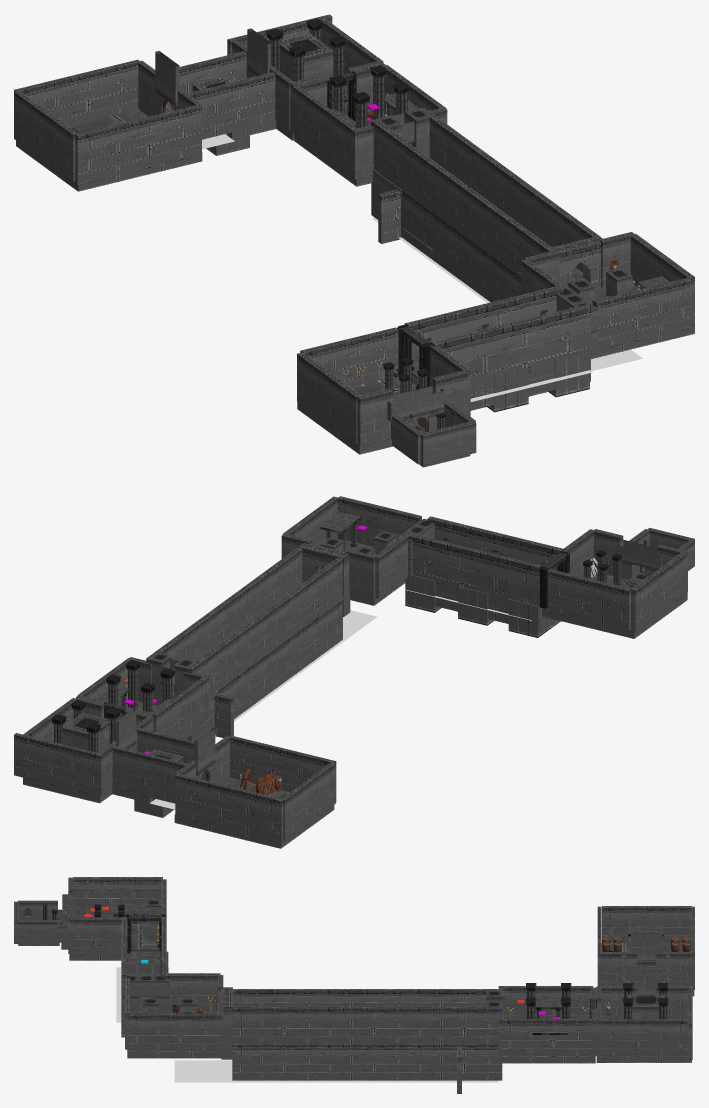
File: Level2.fbx
3 views of the same model, one above another, from view 1: azimuth 30°, elevation 25°; view 2: azimuth 150°, elevation 25°; view 3: azimuth 270°, elevation 25° (orthographic). The views are drawn at different scales.
Parts seen in each view (by area): view 1: wall1.011, wall1.049, wall1.050, wall1.016, wall1.010, wall1.045, wall1.006, wall1.009, wall1.051, wall1.022, wall1.032, wall1.026 (+37 smaller); view 2: wall1.010, wall1.050, wall1.041, wall1.006, wall1.049, wall1.044, wall1.011, wall1.009, wall1.051, wall1.022, wall1.018, wall1.016 (+33 smaller); view 3: wall1.015, wall1.017, wall1.021, wall1.038, wall1.025, wall1.033, wall1.019, wall1.023, wall1.027, wall1.009, wall1.051, Plane.001 (+29 smaller).
Part boxes in pixels (box(x1,y1,x2,y2)): wall1.011: box(431, 304, 590, 410); wall1.049: box(75, 104, 201, 184); wall1.050: box(14, 59, 139, 138); wall1.016: box(593, 277, 691, 350); wall1.010: box(404, 285, 564, 368); wall1.045: box(187, 72, 275, 139); wall1.006: box(300, 327, 398, 387); wall1.009: box(297, 352, 361, 444); wall1.051: box(14, 90, 77, 181); wall1.022: box(430, 162, 493, 253); wall1.032: box(293, 85, 356, 176); wall1.026: box(371, 119, 435, 210); wall1.010: box(405, 533, 542, 631); wall1.050: box(175, 774, 283, 842); wall1.041: box(14, 733, 103, 796); wall1.006: box(547, 569, 631, 631); wall1.049: box(228, 735, 336, 803); wall1.044: box(112, 746, 187, 803); wall1.011: box(427, 516, 564, 570); wall1.009: box(631, 552, 686, 631); wall1.051: box(281, 762, 335, 840); wall1.022: box(238, 594, 292, 672); wall1.018: box(288, 557, 342, 635); wall1.016: box(337, 496, 421, 546); wall1.015: box(128, 1013, 218, 1051); wall1.017: box(232, 1006, 322, 1044); wall1.021: box(322, 1006, 412, 1044); wall1.038: box(599, 1019, 688, 1056); wall1.025: box(412, 1006, 502, 1044); wall1.033: box(501, 1019, 591, 1056); wall1.019: box(232, 1044, 321, 1080); wall1.023: box(322, 1044, 411, 1080); wall1.027: box(412, 1044, 502, 1080); wall1.009: box(73, 877, 162, 914); wall1.051: box(602, 906, 691, 943); Plane.001: box(174, 1060, 498, 1082).
Bounding box in the file's own units: 51832 × 15241 × 105573.
